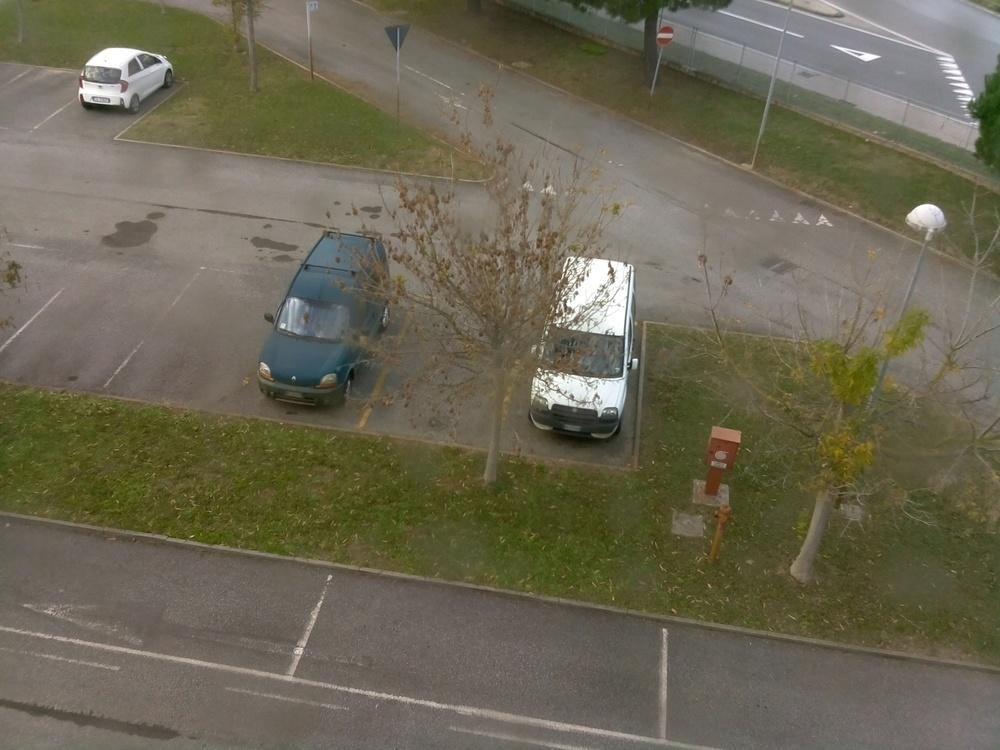empty: (248, 234, 418, 416), (521, 369, 641, 444), (68, 49, 178, 115)
occupied: (50, 541, 259, 641), (378, 601, 591, 699), (708, 658, 897, 749), (407, 287, 502, 441), (181, 271, 266, 412), (46, 271, 147, 386), (4, 81, 64, 113)
